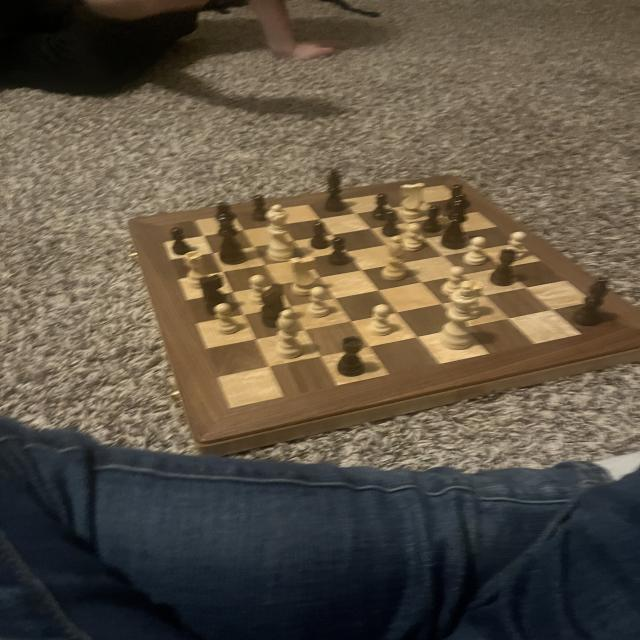bishop: (570, 275, 613, 330), (323, 170, 348, 212)
black-bishop: (213, 201, 251, 266)
black-king: (198, 273, 230, 320), (260, 282, 288, 330)
black-knight: (327, 236, 353, 267), (247, 192, 272, 224), (170, 225, 193, 256), (443, 183, 466, 211), (380, 208, 402, 237), (422, 203, 443, 233), (371, 192, 391, 221), (310, 220, 328, 250)
black-pawn: (440, 192, 473, 251)
black-queen: (334, 334, 368, 378), (486, 249, 519, 288)
black-rook: (274, 308, 304, 360), (379, 234, 408, 284)
white-bishop: (440, 280, 480, 352)
white-king: (288, 255, 320, 295), (398, 180, 426, 220)
white-knight: (367, 303, 396, 338), (212, 302, 242, 335), (503, 230, 532, 264), (462, 236, 491, 268), (306, 286, 334, 319), (439, 266, 467, 296), (245, 274, 272, 304), (403, 223, 425, 251)
white-pawn: (264, 203, 298, 263)
white-queen: (182, 250, 215, 290), (465, 280, 487, 321)
